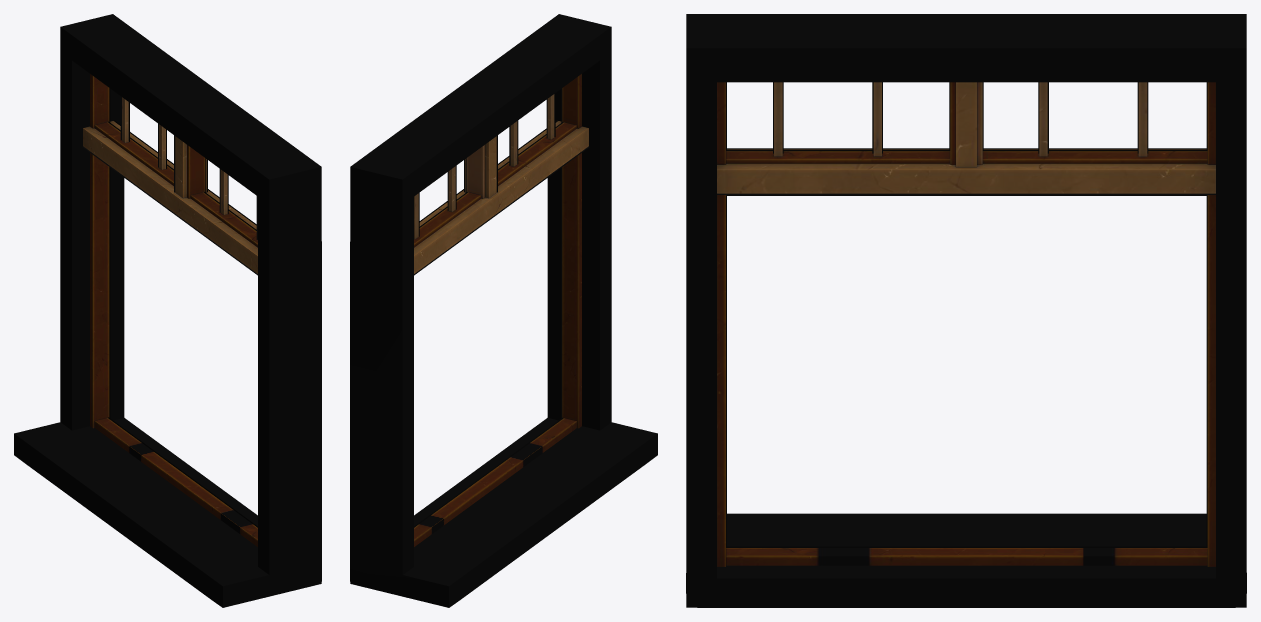
Rendered from Single Window.fbx.
3 views of the same model, side by side, from view 1: azimuth 30°, elevation 25°; view 2: azimuth 150°, elevation 25°; view 3: azimuth 270°, elevation 25° (orthographic). The views are drawn at different scales.
Parts seen in each view (by area): view 1: Winodws; view 2: Winodws; view 3: Winodws.
Boxes of the visible parts, x1,y1,x2,y2 form: Winodws: (14,14,321,607); Winodws: (350,14,657,607); Winodws: (686,14,1246,607).
Bounding box in the file's own units: 50.62 × 184 × 203.
